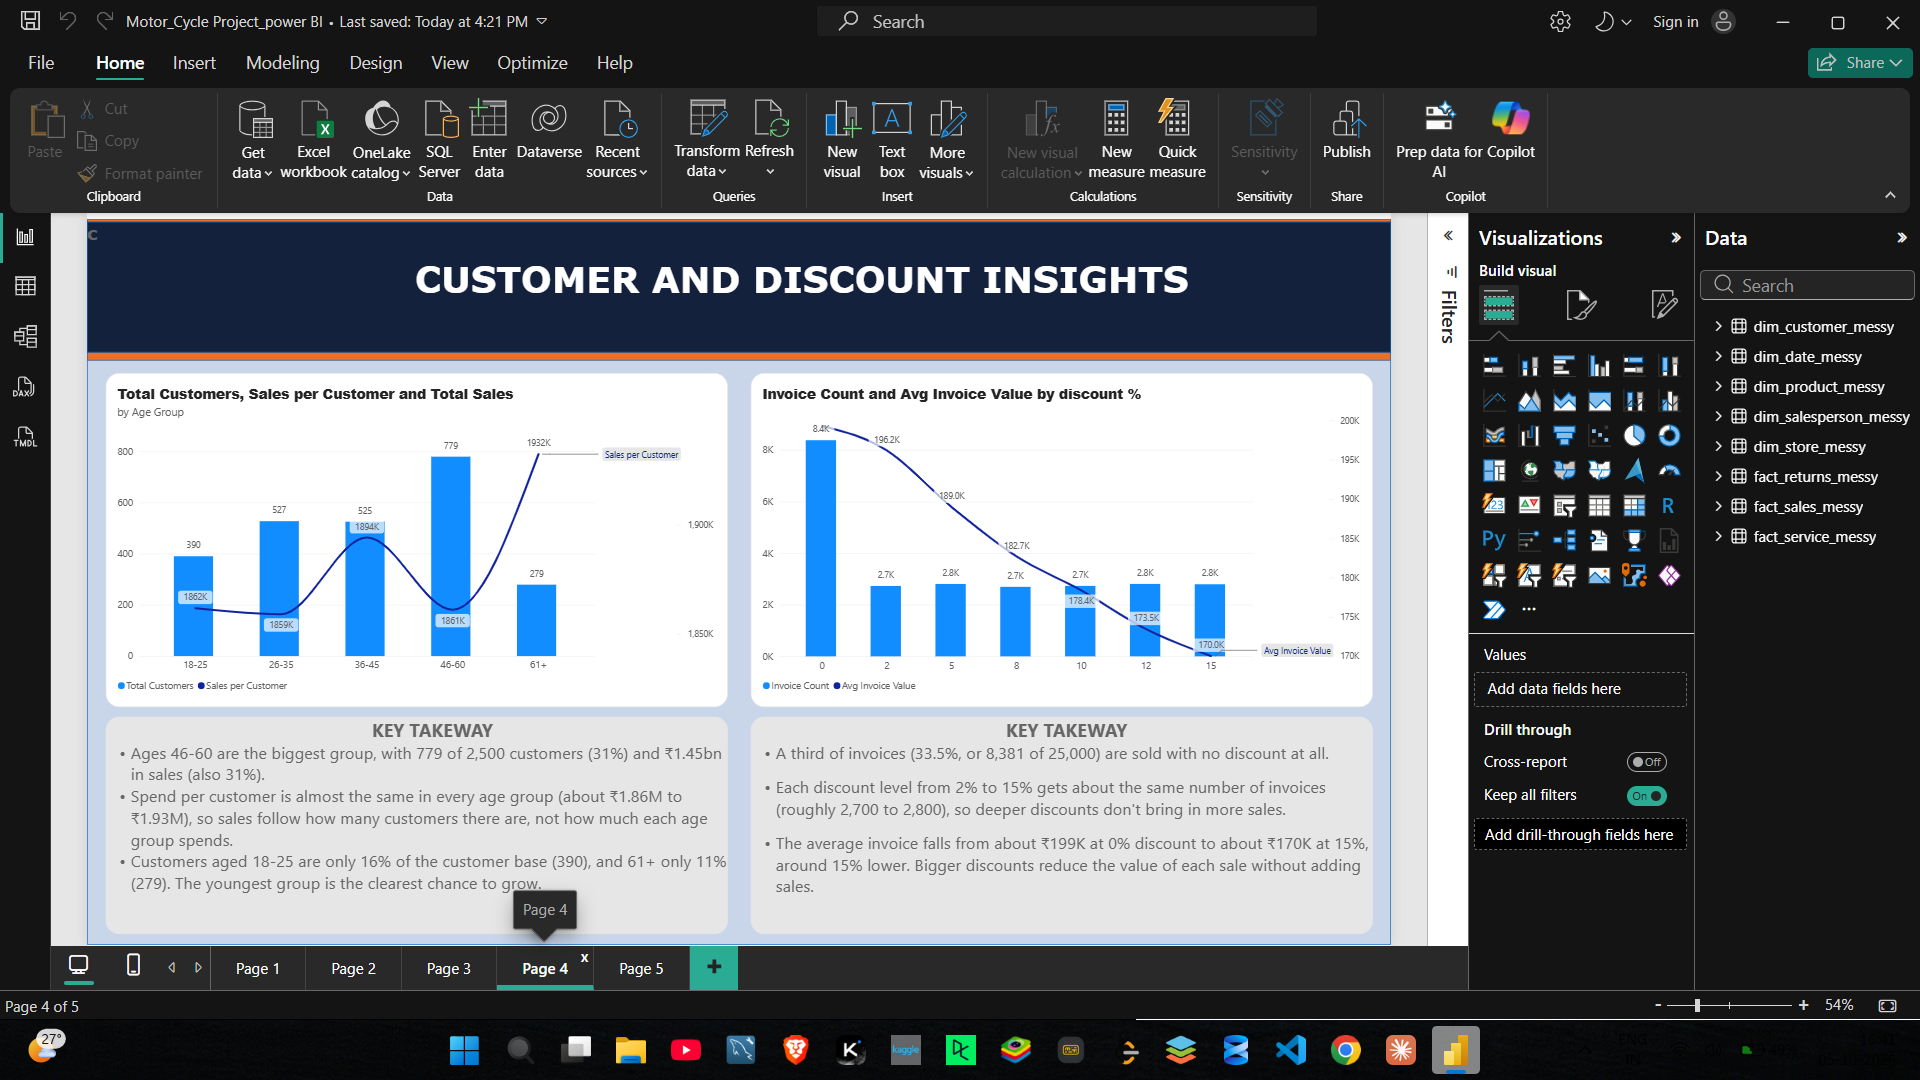

Layout of this report page (visuals, bound fields, positions):
{"tool":"powerbi","page":{"name":"Page 4","canvas":[1920,1080],"ordinal":3},"visuals":[{"type":"shape","box":[0,192,1920,886],"z":0},{"type":"lineClusteredColumnComboChart","fields":{"Category":["dim_customer_messy.Age Group"],"Y":["dim_customer_messy.Total Customers"],"Y2":["dim_customer_messy.Sales per Customer"]},"box":[28,236,916,492],"z":1000},{"type":"lineClusteredColumnComboChart","title":"Invoice Count and Avg Invoice Value by discount %","fields":{"Category":["fact_sales_messy.Discount_Pct"],"Y":["fact_sales_messy.Invoice Count"],"Y2":["fact_returns_messy.Avg Invoice Value"]},"box":[978,236,916,492],"z":2000},{"type":"shape","box":[0,10,1920,208],"z":3000},{"type":"shape","box":[0,12.5,1920,192.5],"z":4000},{"type":"textbox","box":[0,12,1920,192],"z":5000},{"type":"textbox","box":[28,742,916,320],"z":5001},{"type":"textbox","box":[978,742,916,320],"z":5002}]}

Visuals, with their boxes on the page's 1920x1080 design canvas (x1, y1, x2, y2). These are canvas units, not pixel positions in the 1920x1080 screenshot, which may show the page scaled, cropped or inside an application window:
shape: detection(0, 192, 1920, 1078)
lineClusteredColumnComboChart - dim_customer_messy.Age Group x dim_customer_messy.Total Customers: detection(28, 236, 944, 728)
"Invoice Count and Avg Invoice Value by discount %" lineClusteredColumnComboChart: detection(978, 236, 1894, 728)
shape: detection(0, 10, 1920, 218)
shape: detection(0, 12, 1920, 205)
textbox: detection(0, 12, 1920, 204)
textbox: detection(28, 742, 944, 1062)
textbox: detection(978, 742, 1894, 1062)
